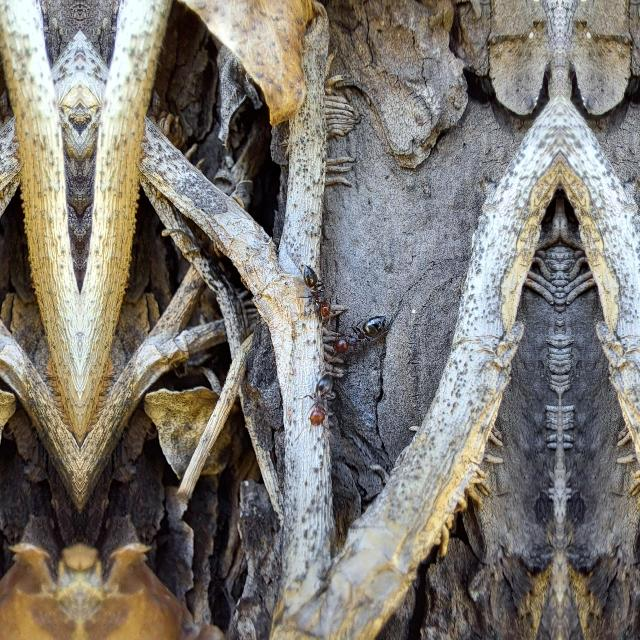Crematogaster: (334, 312, 392, 354), (292, 268, 336, 322), (305, 370, 339, 430)
